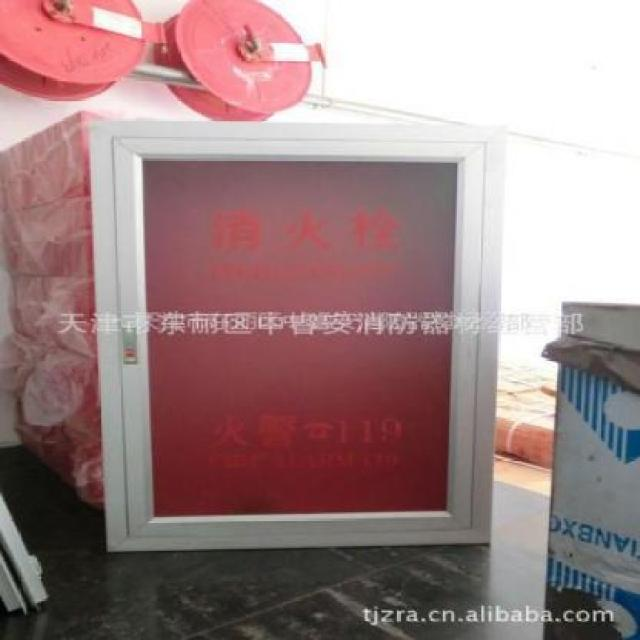firehydrant: (83, 115, 515, 560)
